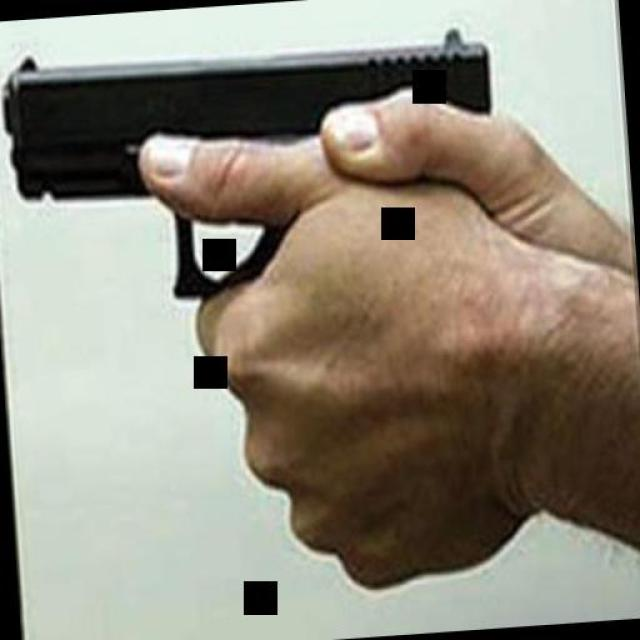gun: (0, 12, 502, 326)
